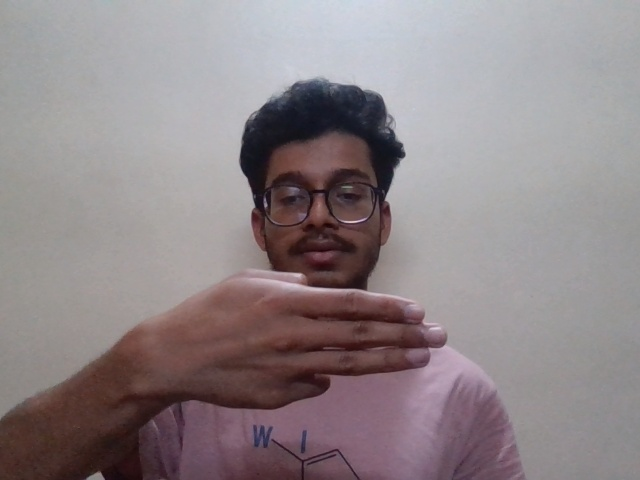wednesday: (118, 259, 444, 410)
